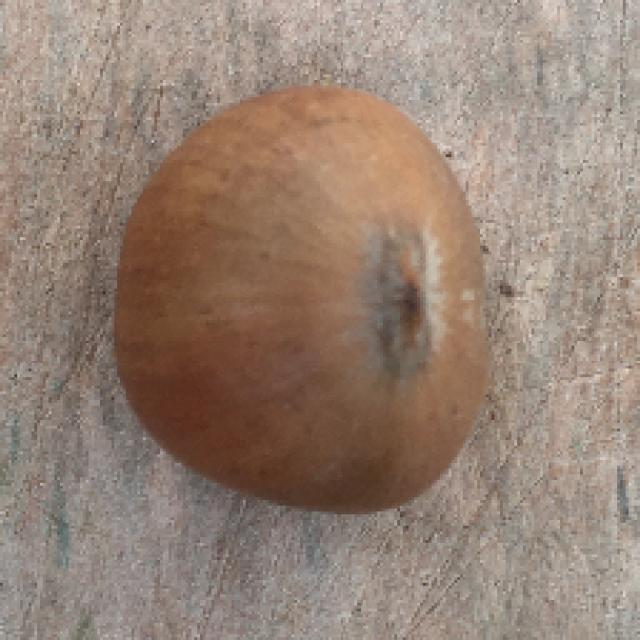DamagedHazelnut: (114, 84, 488, 512)
